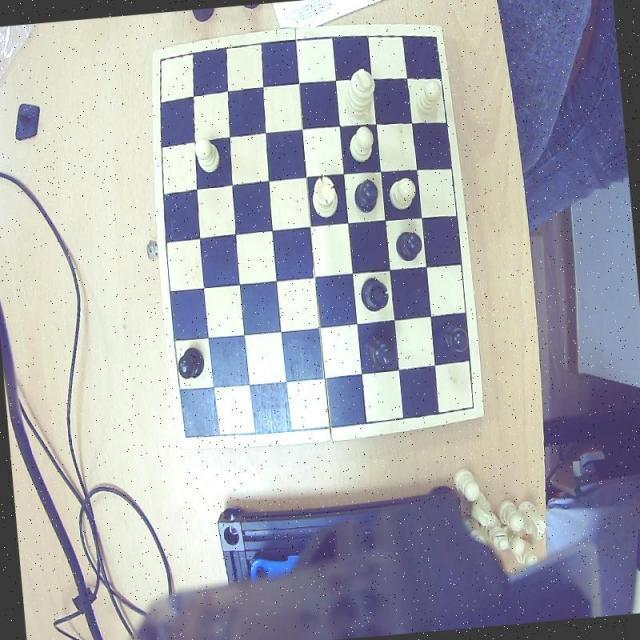chess-table-corners: (178, 420, 202, 447), (460, 396, 482, 420), (427, 26, 444, 54), (155, 48, 175, 70)
